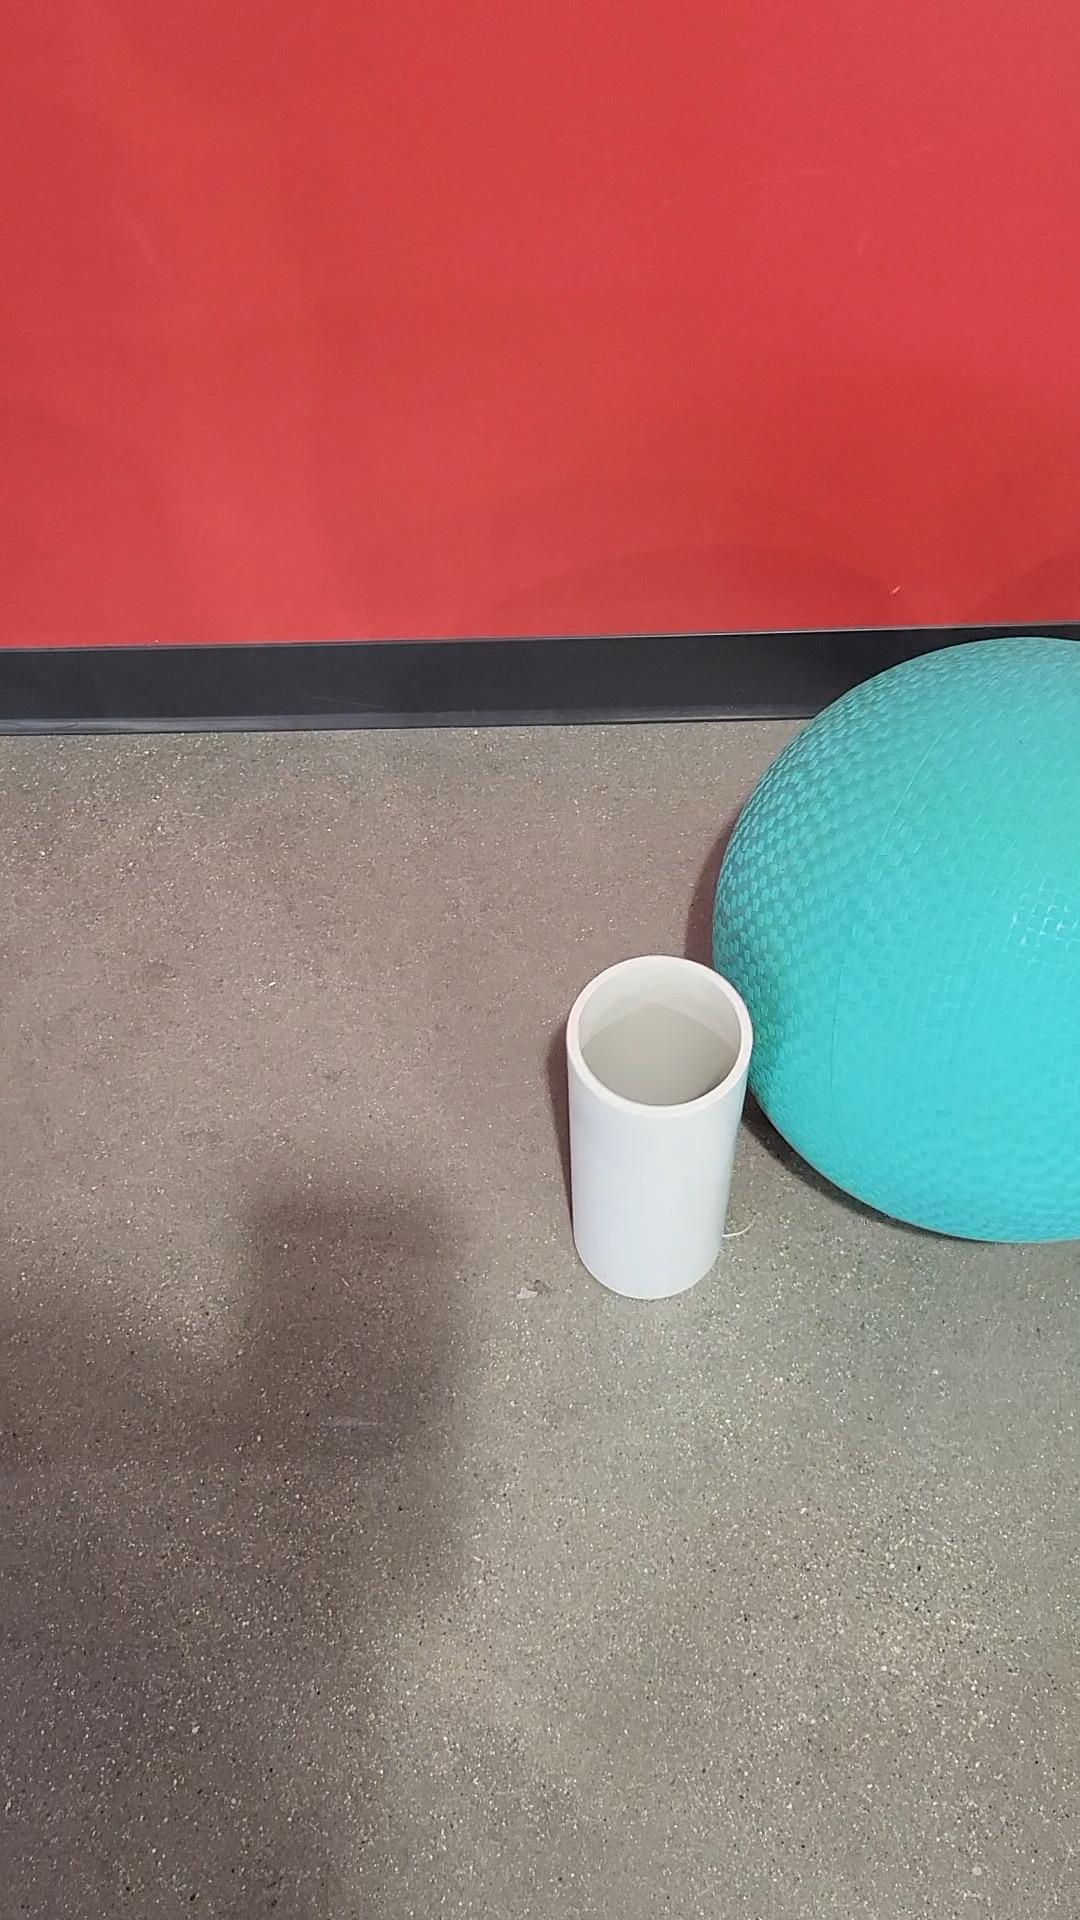algae: (712, 642, 1079, 1254)
coral: (564, 948, 760, 1299)
